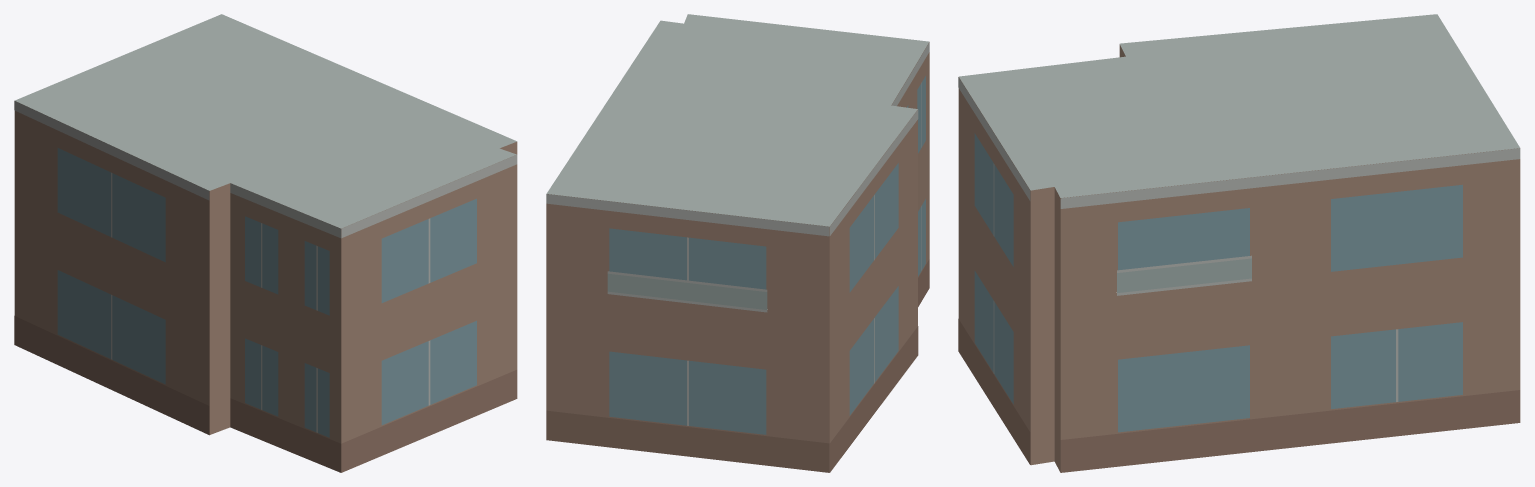
The model's file is survey-upis-33015790.glb.
The picture shows the model from 3 angles, left to right: view 1: azimuth 30°, elevation 25°; view 2: azimuth 150°, elevation 25°; view 3: azimuth 270°, elevation 25°; orthographic projection. The views are drawn at different scales.
Visible parts, largest first — view 1: survey-upis-33015790.tmp; view 2: survey-upis-33015790.tmp; view 3: survey-upis-33015790.tmp.
Boxes of the visible parts, x1=… form: survey-upis-33015790.tmp: x1=14, y1=14, x2=517, y2=472; survey-upis-33015790.tmp: x1=546, y1=14, x2=929, y2=472; survey-upis-33015790.tmp: x1=958, y1=14, x2=1520, y2=472.
Size of the model in its own units: 8.78 by 6.1 by 11.32.
